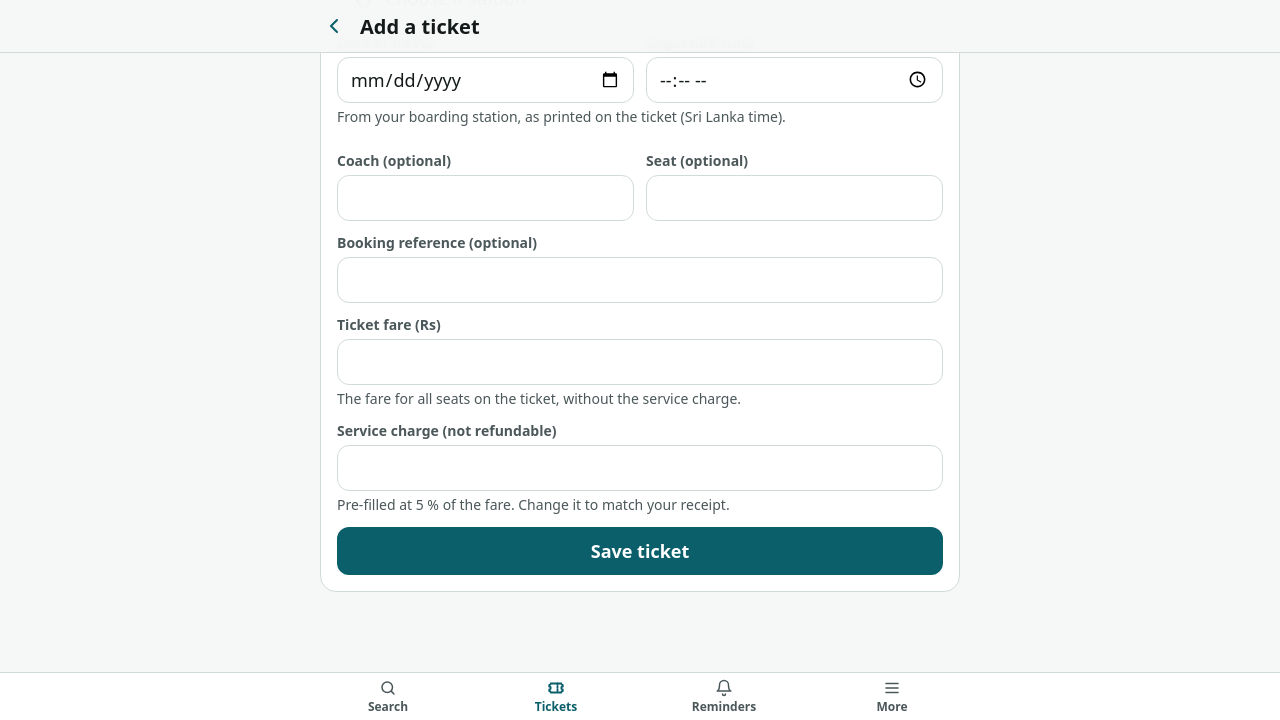
Scenario: form checks › missing details are explained and focus goes to the file field first
(page scrolled)
Click the button "Save ticket" at (640, 551), box 337,527 -> 943,575
(page scrolled)
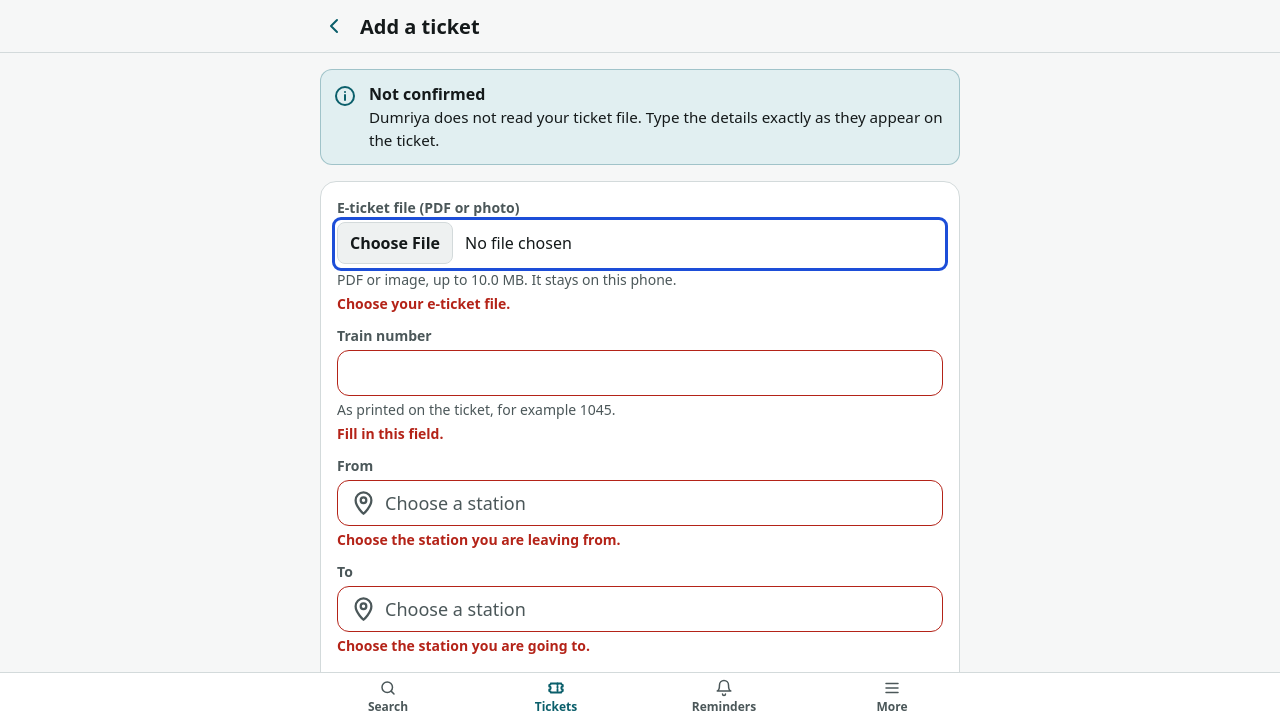
Check: the text "Choose your e-ticket file." is shown, box 337,294 -> 510,313
Check: the text "Choose the station you are leaving from." is shown, box 337,530 -> 621,549
